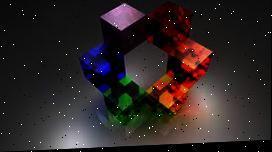cube: (144, 3, 193, 55), (100, 2, 146, 57), (164, 41, 212, 90), (80, 47, 126, 93)
